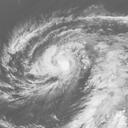cyclone: (4, 10, 92, 99)
